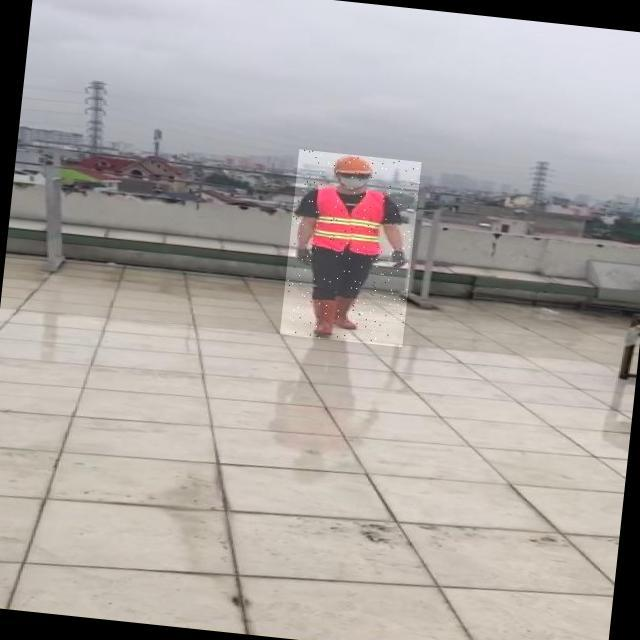Gloves: (292, 242, 318, 268), (386, 250, 408, 270)
Helmet: (331, 153, 376, 178)
Human: (279, 149, 421, 347)
Safety Boot: (301, 294, 346, 339), (330, 293, 364, 332)
Safety Vest: (310, 184, 388, 255)
